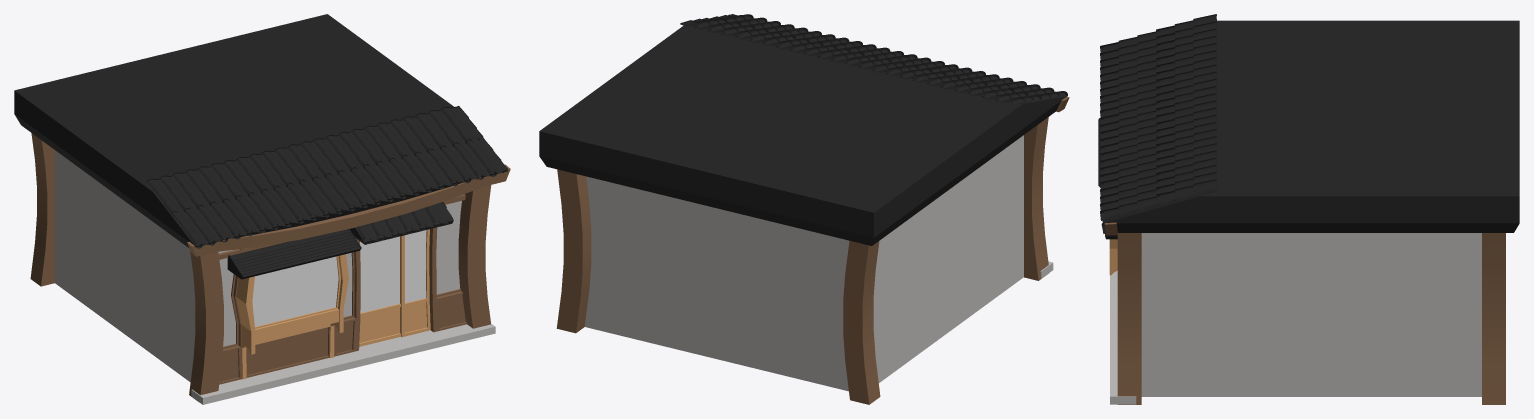
File: EnvironmentArt_House1.fbx
3 renders of one model, left to right at view 1: azimuth 30°, elevation 25°; view 2: azimuth 150°, elevation 25°; view 3: azimuth 270°, elevation 25°, orthographic. The views are drawn at different scales.
Visible parts, largest first — view 1: Base_Toit_Maison.001; view 2: Base_Toit_Maison.001; view 3: Base_Toit_Maison.001.
Boxes of the visible parts, <box> form: Base_Toit_Maison.001: <box>14,14,510,404</box>; Base_Toit_Maison.001: <box>539,14,1069,404</box>; Base_Toit_Maison.001: <box>1098,14,1519,404</box>.
Size of the model in its own units: 481 by 280 by 480.
